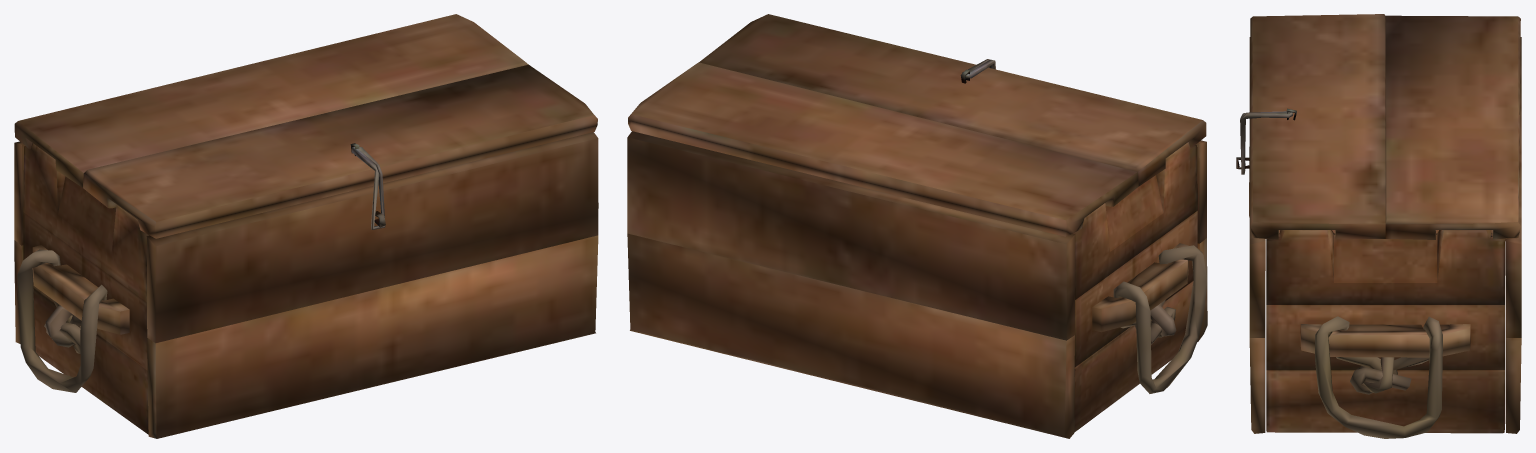
File: caisse_bois_lod1.glb
The picture shows the model from 3 angles, left to right: view 1: azimuth 30°, elevation 25°; view 2: azimuth 150°, elevation 25°; view 3: azimuth 270°, elevation 25°; orthographic projection. The views are drawn at different scales.
Parts seen in each view (by area): view 1: wooden_crate_01_lid; view 2: wooden_crate_01_lid; view 3: wooden_crate_01_lid.
Boxes of the visible parts, box(x1,y1,x2,y2) form: wooden_crate_01_lid: box(14, 14, 598, 438); wooden_crate_01_lid: box(627, 14, 1207, 438); wooden_crate_01_lid: box(1236, 14, 1521, 438).
Size of the model in its own units: 0.8245 by 0.3469 by 0.4043.
Materials: 1 (1 with a texture image).
